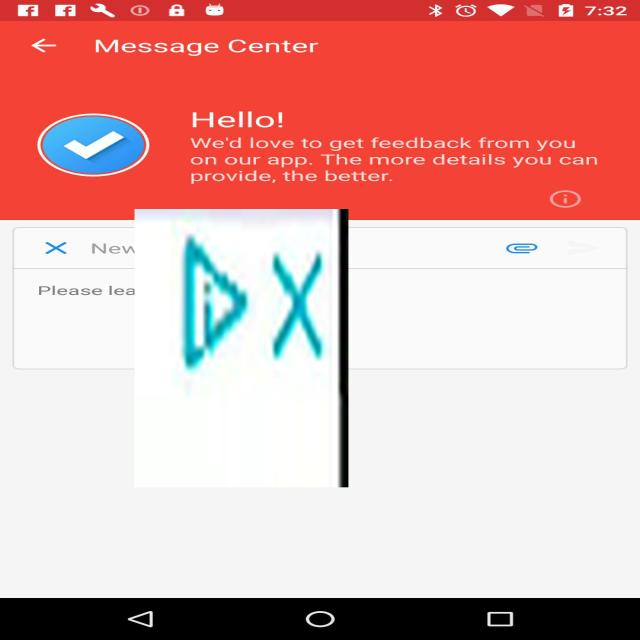sneaking: (134, 209, 348, 487)
